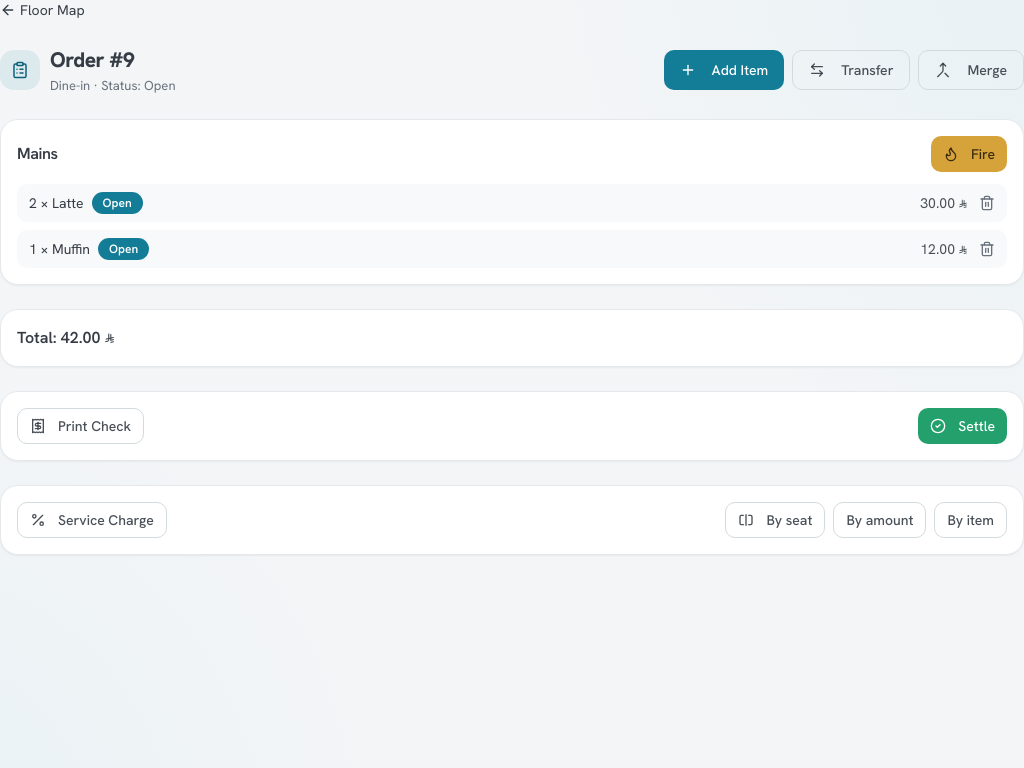
OrderTicket settle-by-item picker — shadcn Checkbox (#226) › renders each billable line as a shadcn Checkbox that toggles
The image size is (1024, 768).
// Open settle dialog, then switch the scope Select to "by item".
Click the button "Settle". click: click(963, 426)
box: [918,408,1007,444]
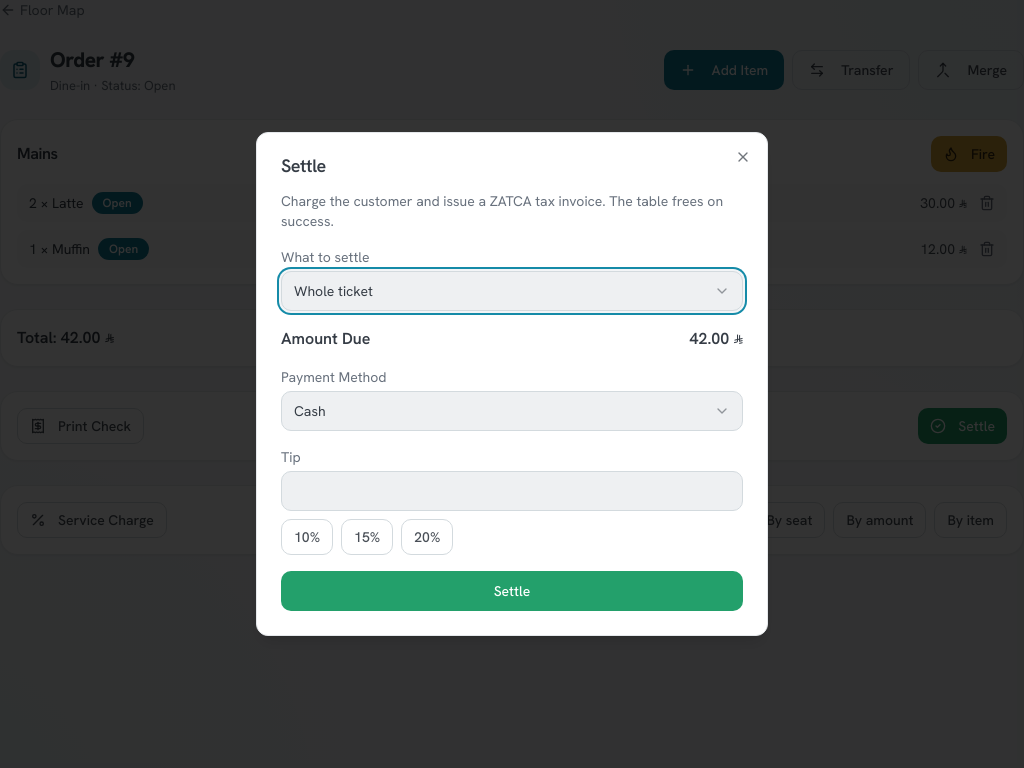
Click the dropdown named "what to settle". click: click(333, 291)
box: [281,271,743,311]
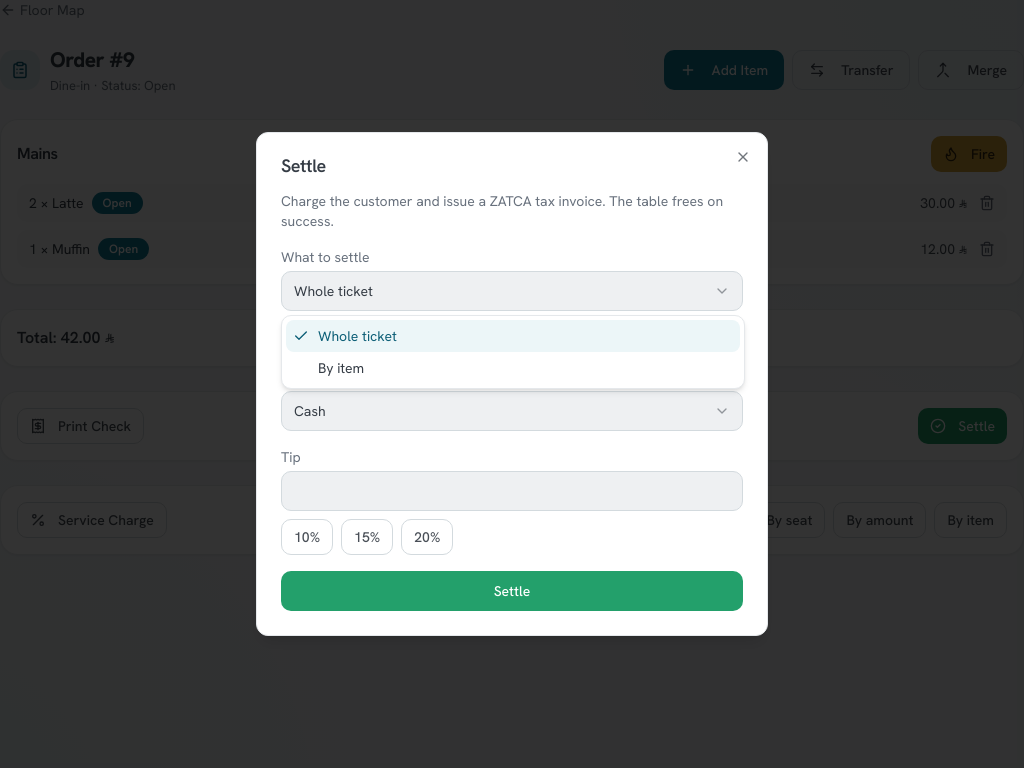
Click the option "By item". click: click(341, 368)
box: [318,359,364,377]
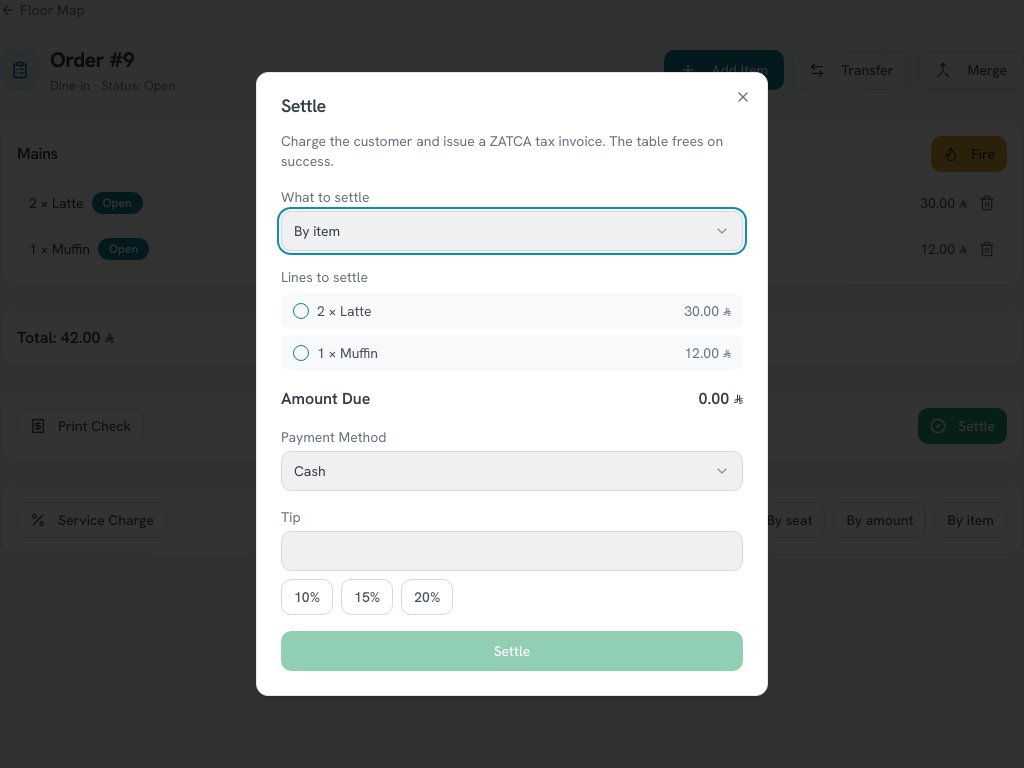
Click the checkbox named "2 × latte". click: click(301, 311)
box: [293,303,309,319]
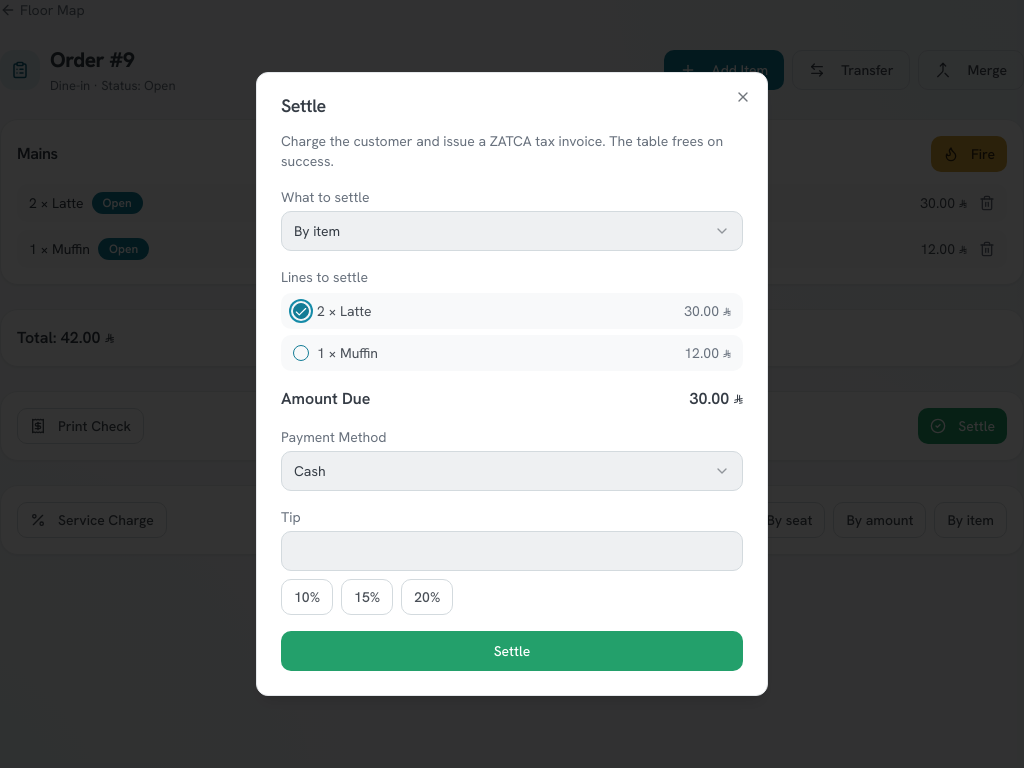
Check: the checkbox named "2 × latte" is checked, box [293,303,309,319]
